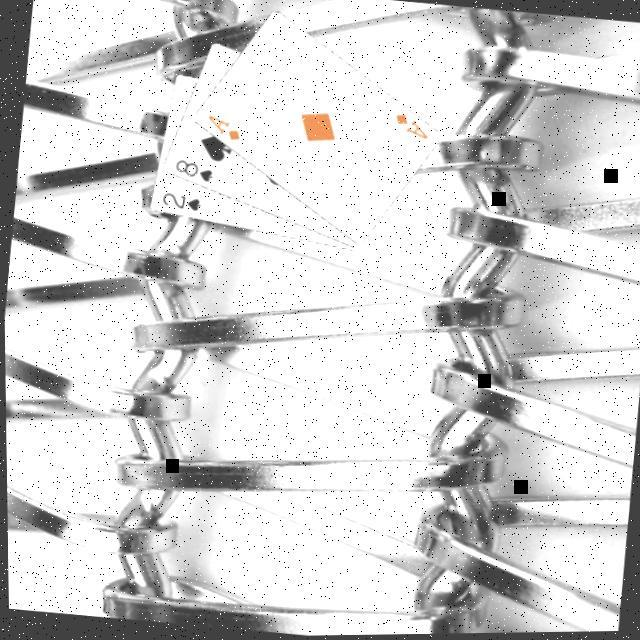2S: (154, 189, 201, 217)
8S: (168, 158, 214, 188)
AD: (386, 111, 429, 147), (198, 112, 242, 147)
